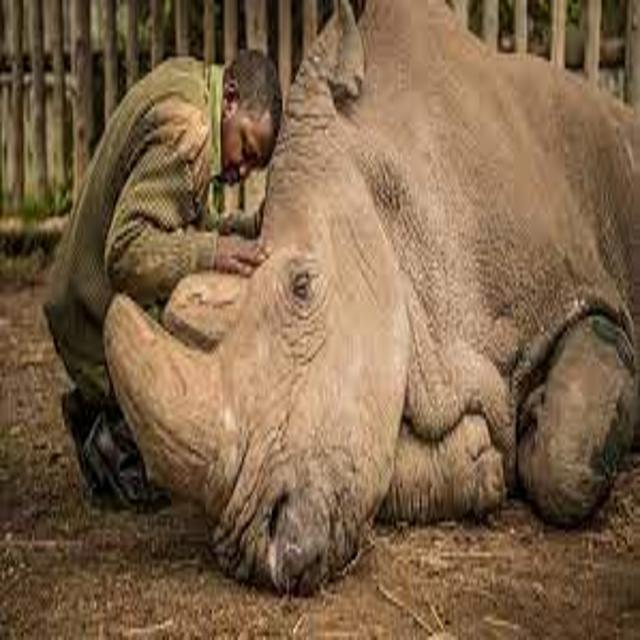ranger: (22, 22, 348, 537)
rhino: (64, 2, 639, 615)
